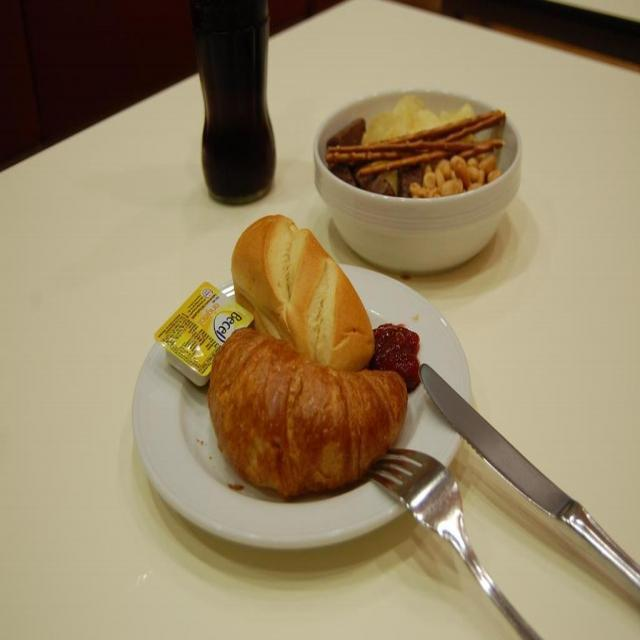Croissant: (207, 323, 409, 502)
